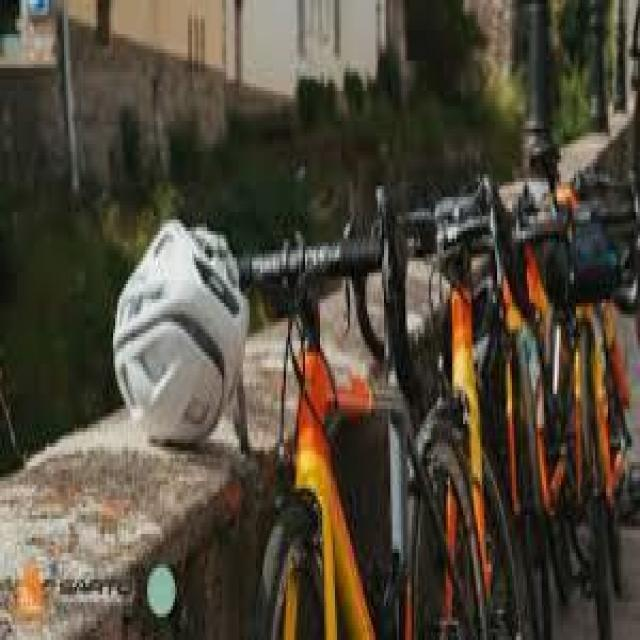bicycle: (246, 220, 427, 640), (466, 183, 586, 637), (404, 191, 506, 638), (537, 198, 633, 618)
